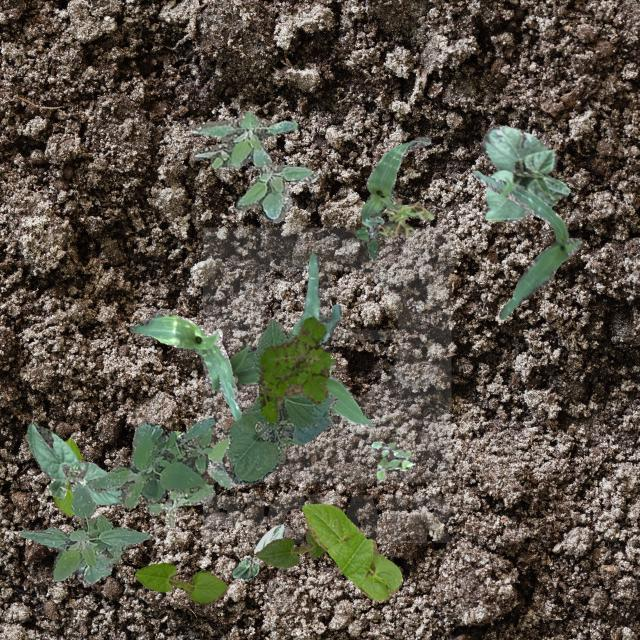crop: (228, 252, 372, 428), (226, 317, 336, 483), (472, 170, 580, 318), (19, 484, 150, 584), (128, 314, 240, 418), (302, 502, 400, 600), (480, 125, 570, 222), (26, 422, 122, 504), (360, 137, 430, 226), (134, 562, 226, 604), (230, 522, 284, 580), (254, 528, 324, 568), (53, 438, 81, 516)
weed: (190, 110, 316, 222), (86, 416, 214, 506), (256, 314, 334, 422), (146, 430, 232, 526), (376, 196, 432, 236), (353, 210, 393, 258), (372, 440, 414, 480)
